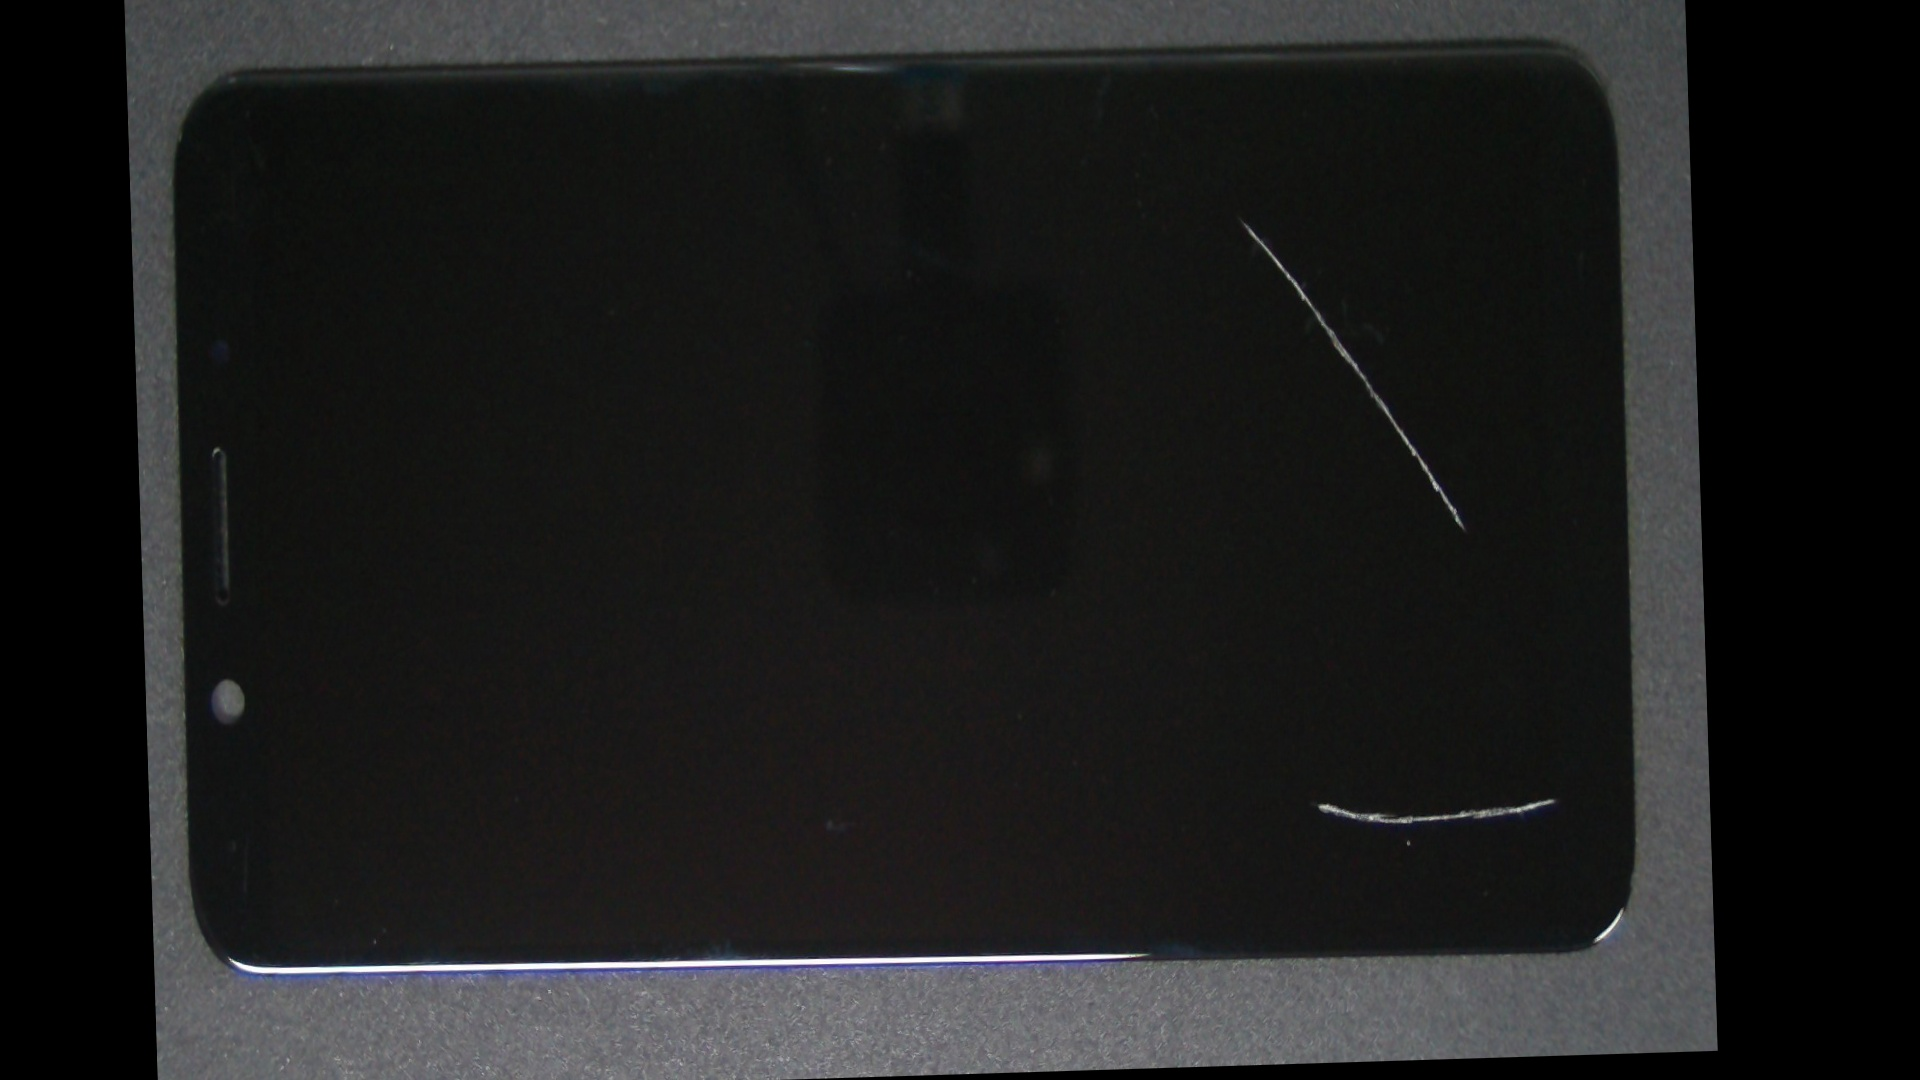oil: (717, 338, 1718, 1080), (682, 45, 1696, 396)
